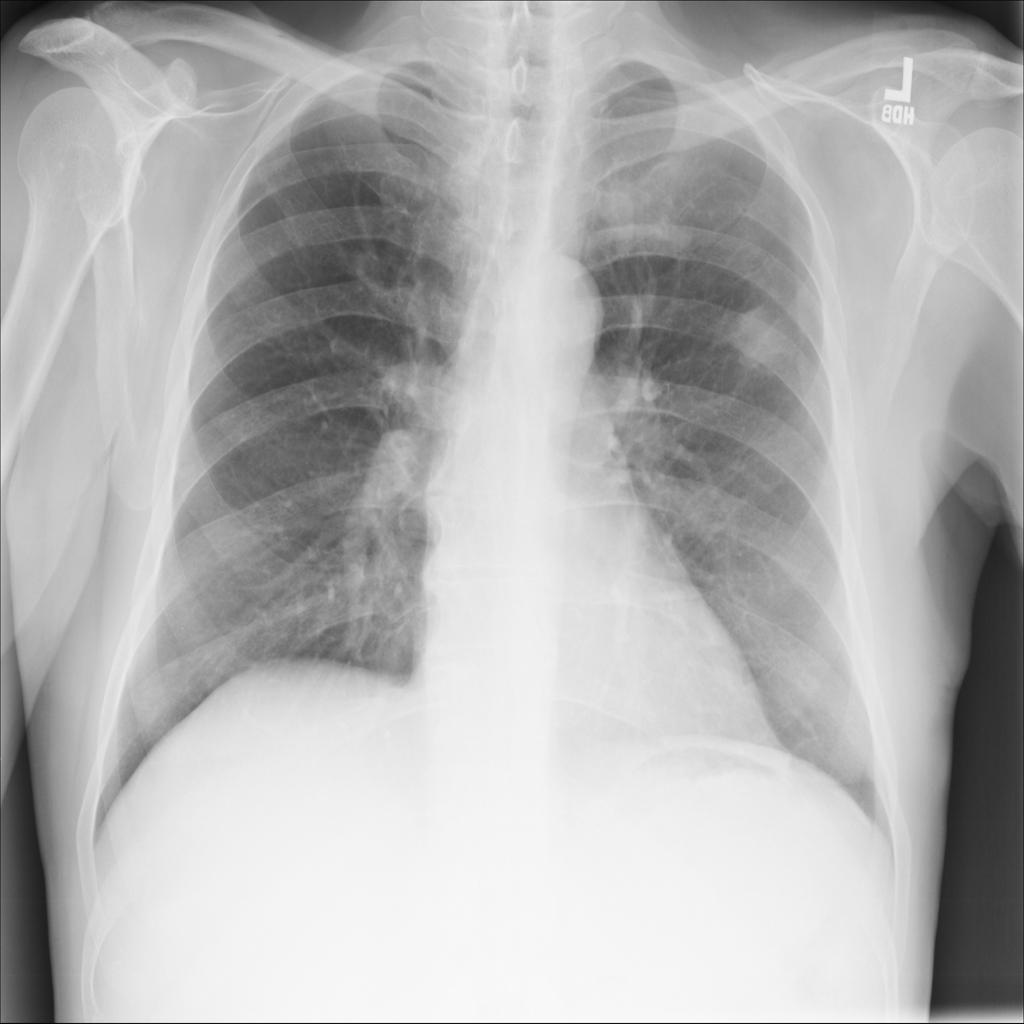nodule: (712, 276, 808, 393)
